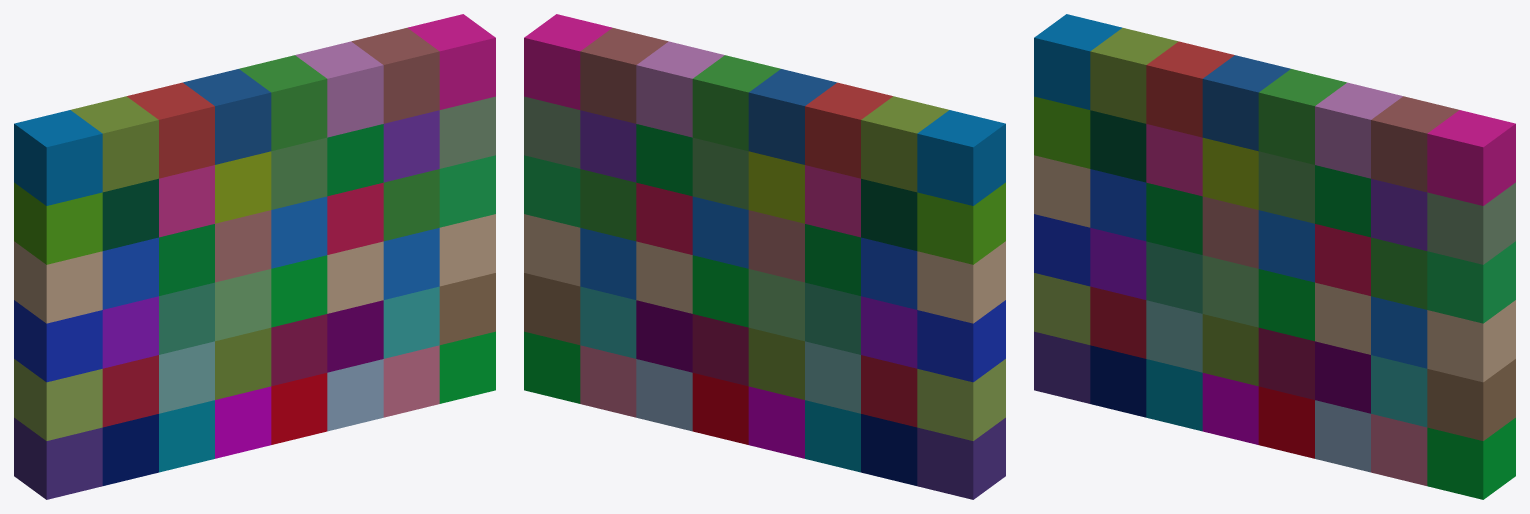
File: Tv00-Crt.gltf
3 views of the same model, side by side, from view 1: azimuth 30°, elevation 25°; view 2: azimuth 150°, elevation 25°; view 3: azimuth 330°, elevation 25° (orthographic).
Visible parts, largest first — view 1: crt; view 2: crt; view 3: crt.
Boxes of the visible parts, left/top/right/bottom form: crt: left=14, top=14, right=495, bottom=499; crt: left=524, top=14, right=1005, bottom=499; crt: left=1034, top=14, right=1515, bottom=499.
Bounding box in the file's own units: 8 × 6 × 1.
